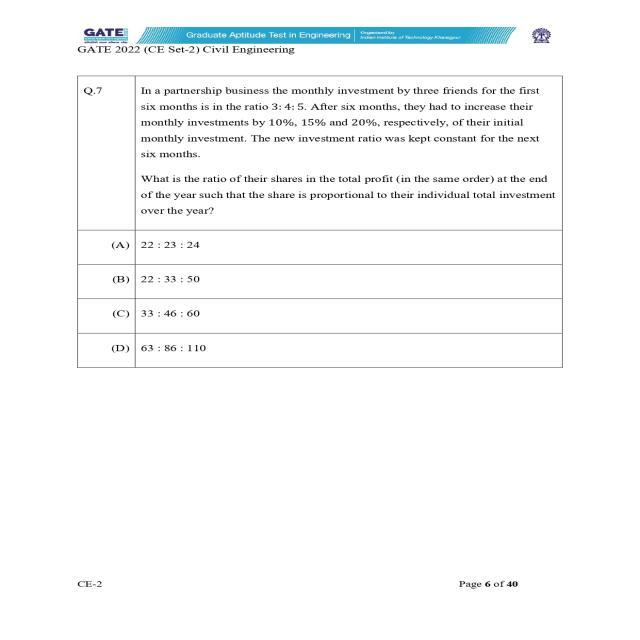Answer_Block: (75, 232, 562, 368)
Question_Answer_Block: (77, 78, 565, 368)
Question_Block: (75, 79, 567, 233)
Question_Paper_Area: (79, 76, 564, 368)
